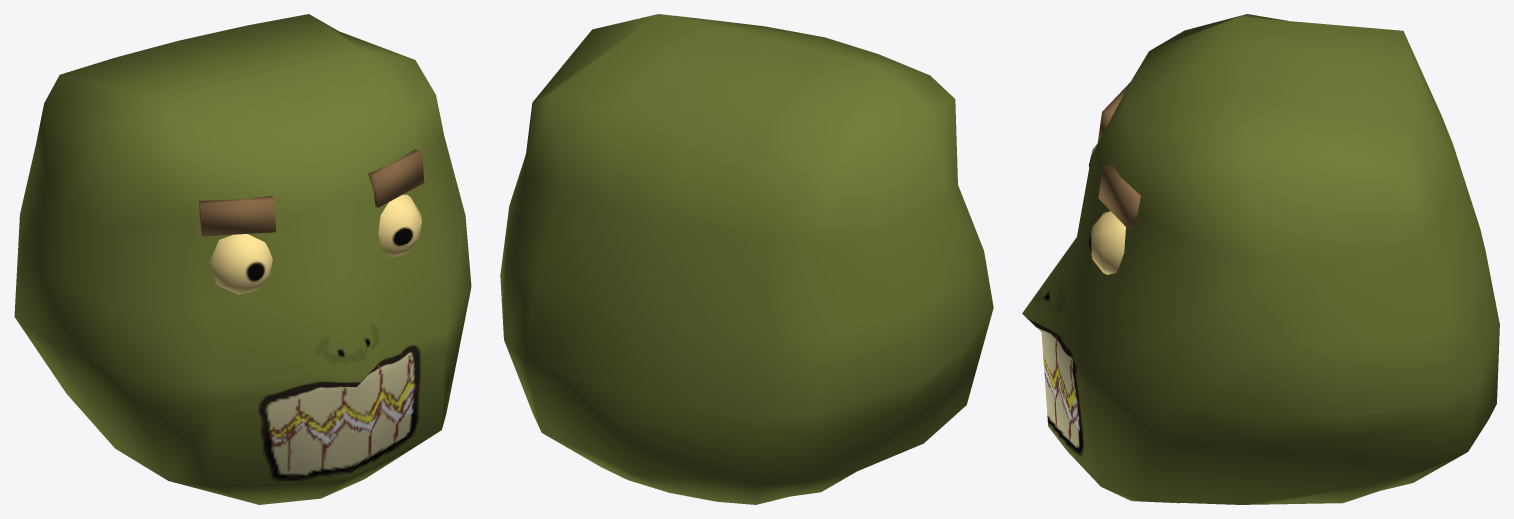
File: Animations_ZombieHead.fbx
3 views of the same model, side by side, from view 1: azimuth 30°, elevation 25°; view 2: azimuth 150°, elevation 25°; view 3: azimuth 270°, elevation 25° (orthographic). The views are drawn at different scales.
Visible parts, largest first — view 1: Character; view 2: Character; view 3: Character.
Boxes of the visible parts, x1=… form: Character: x1=14, y1=14, x2=471, y2=504; Character: x1=500, y1=14, x2=993, y2=504; Character: x1=1022, y1=14, x2=1499, y2=504.
Size of the model in its own units: 65.7 by 60.36 by 64.61.
